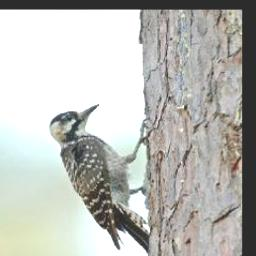Woodpecker: (45, 103, 160, 256)
